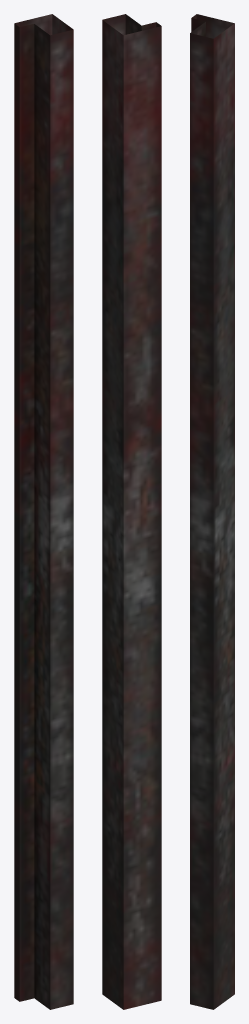
The model's file is TR_MetalPillar.FBX.
3 views of the same model, side by side, from view 1: azimuth 30°, elevation 25°; view 2: azimuth 210°, elevation 25°; view 3: azimuth 330°, elevation 25° (orthographic).
Parts seen in each view (by area): view 1: TR_MetalPillar; view 2: TR_MetalPillar; view 3: TR_MetalPillar.
Boxes of the visible parts, x1,y1,x2,y2 form: TR_MetalPillar: (14, 14, 73, 1009); TR_MetalPillar: (102, 14, 161, 1009); TR_MetalPillar: (190, 14, 234, 1009).
Bounding box in the file's own units: 12.79 × 312 × 12.38.
